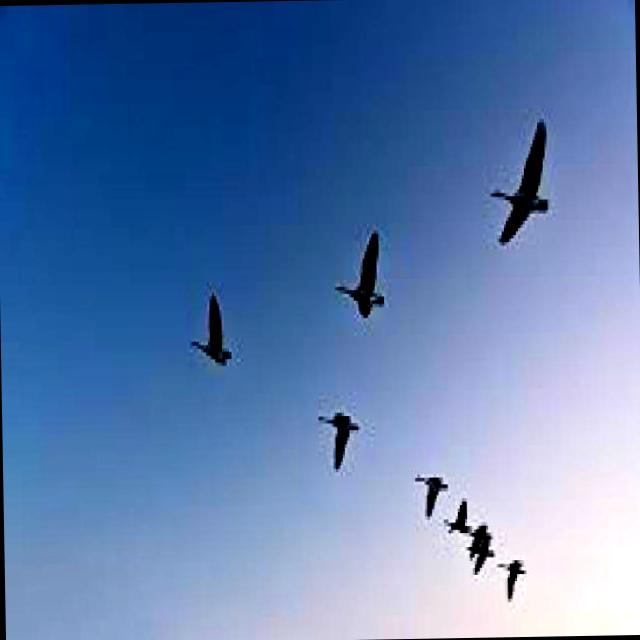bird: (476, 116, 558, 240), (324, 230, 411, 318), (314, 396, 372, 474), (189, 292, 239, 369), (473, 516, 502, 600), (417, 466, 455, 527), (500, 534, 534, 596), (445, 495, 477, 549)
